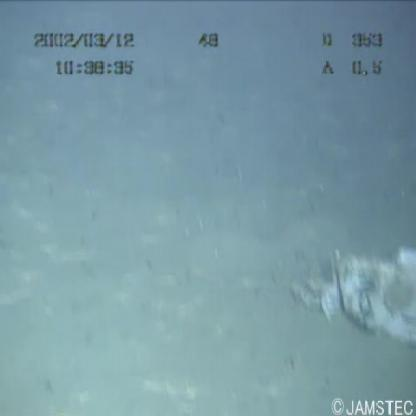Rác: (285, 246, 416, 348)
